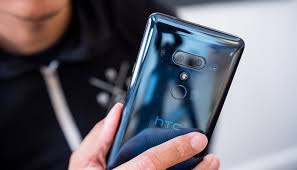htc: (109, 11, 249, 169)
